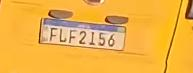Placa_mercosul_carro: (39, 17, 126, 51)
